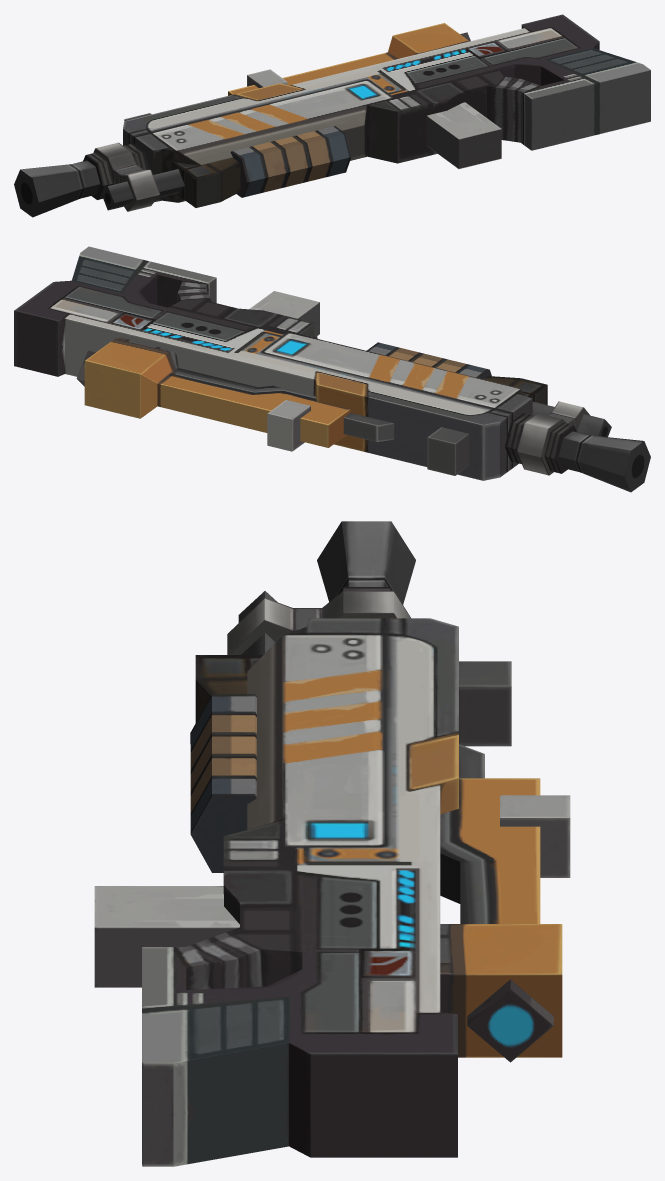
File: weapon_bouncegun.FBX
The picture shows the model from 3 angles, top to bottom: view 1: azimuth 30°, elevation 25°; view 2: azimuth 150°, elevation 25°; view 3: azimuth 270°, elevation 25°; orthographic projection. The views are drawn at different scales.
Visible parts, largest first — view 1: weapon_bouncegun; view 2: weapon_bouncegun; view 3: weapon_bouncegun.
Boxes of the visible parts, bbox=[...] form: weapon_bouncegun: bbox=[14, 14, 650, 217]; weapon_bouncegun: bbox=[14, 246, 650, 492]; weapon_bouncegun: bbox=[94, 521, 570, 1166].
Size of the model in its own units: 159 by 13.79 by 57.51.
